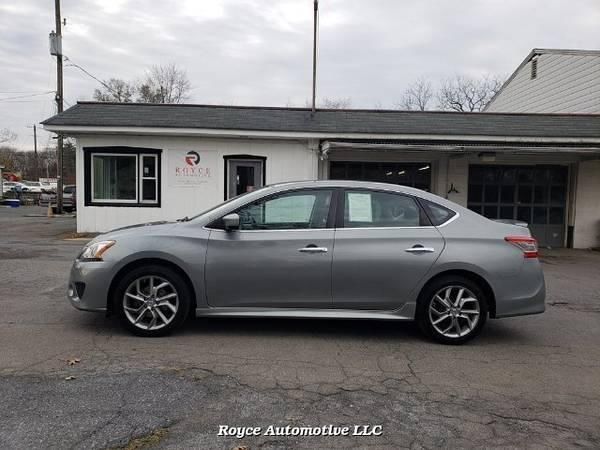Front_Bumper: (68, 262, 124, 312)
Front_Fender: (96, 223, 211, 314)
Front_Left_Door: (206, 227, 335, 315)
Front_Left_Window: (203, 186, 340, 229)
Left_Headlight: (76, 239, 115, 262)
Left_Taillight: (504, 234, 541, 257)
Rear_Bumper: (484, 256, 545, 317)
Rear_Fender: (419, 198, 528, 277)
Rear_Left_Door: (330, 226, 443, 318)
Rear_Left_Window: (334, 188, 434, 230)
Roof: (186, 177, 467, 225)
Wheel: (112, 263, 191, 338), (421, 275, 491, 342)
